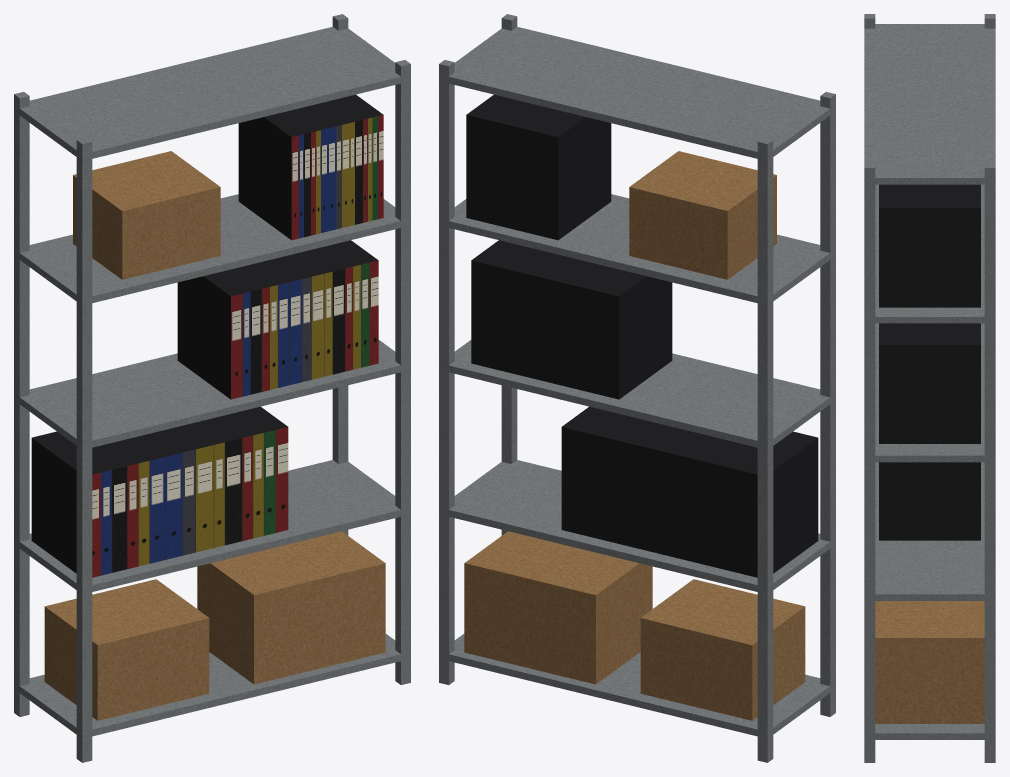
File: SM_OpRoom_Shelf.fbx
3 renders of one model, left to right at view 1: azimuth 30°, elevation 25°; view 2: azimuth 150°, elevation 25°; view 3: azimuth 270°, elevation 25°, orthographic. The views are drawn at different scales.
Parts seen in each view (by area): view 1: Shelf; view 2: Shelf; view 3: Shelf.
Part boxes in pixels (left/top/right/bottom): Shelf: left=14, top=14, right=410, bottom=762; Shelf: left=439, top=14, right=835, bottom=762; Shelf: left=864, top=14, right=995, bottom=762.
Size of the model in its own units: 1 by 1.8 by 0.36.
Materials: 4 (4 with a texture image).
